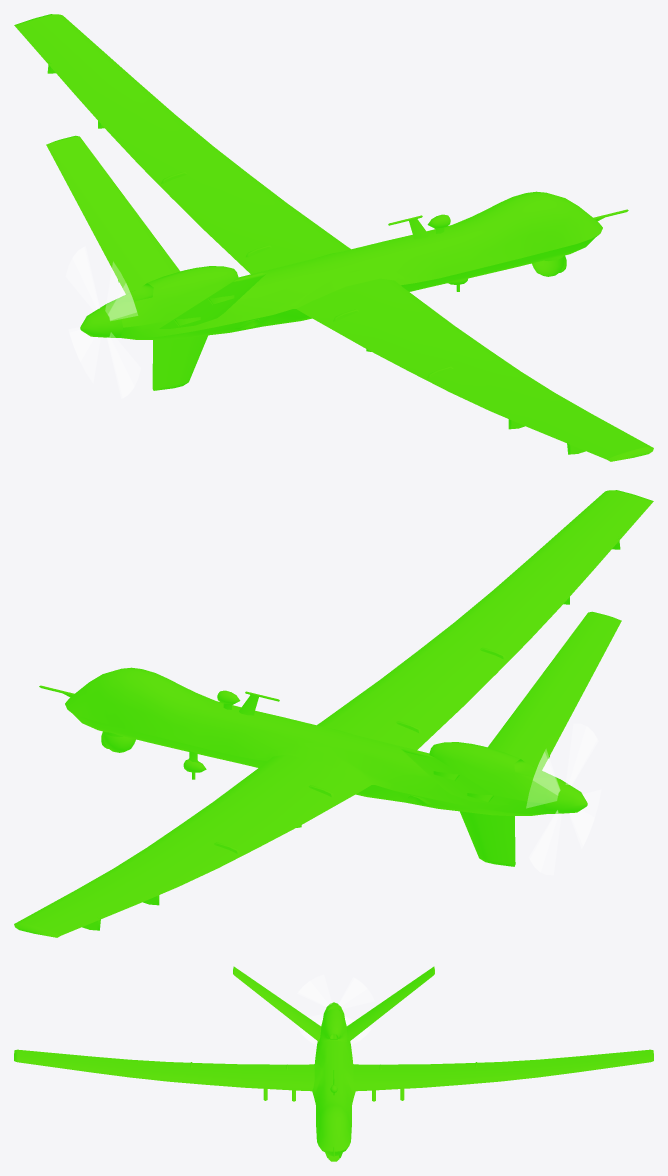
The picture shows the model from 3 angles, top to bottom: view 1: azimuth 30°, elevation 25°; view 2: azimuth 150°, elevation 25°; view 3: azimuth 270°, elevation 25°; orthographic projection. The views are drawn at different scales.
Visible parts, largest first — view 1: MQ_9_UAV, MQ_9_UAV_1; view 2: MQ_9_UAV, MQ_9_UAV_1; view 3: MQ_9_UAV, MQ_9_UAV_1.
Boxes of the visible parts, bbox=[...] form: MQ_9_UAV: bbox=[14, 14, 653, 461]; MQ_9_UAV_1: bbox=[66, 246, 140, 398]; MQ_9_UAV: bbox=[14, 490, 653, 937]; MQ_9_UAV_1: bbox=[526, 724, 600, 874]; MQ_9_UAV: bbox=[14, 966, 653, 1161]; MQ_9_UAV_1: bbox=[296, 975, 374, 1044].
Bounding box in the file's own units: 10.6 × 3.41 × 20.
